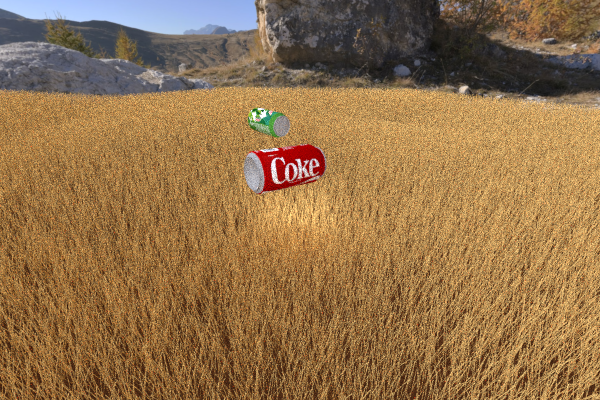bottle: (347, 100, 446, 163)
can: (243, 144, 326, 194), (247, 107, 290, 137)
